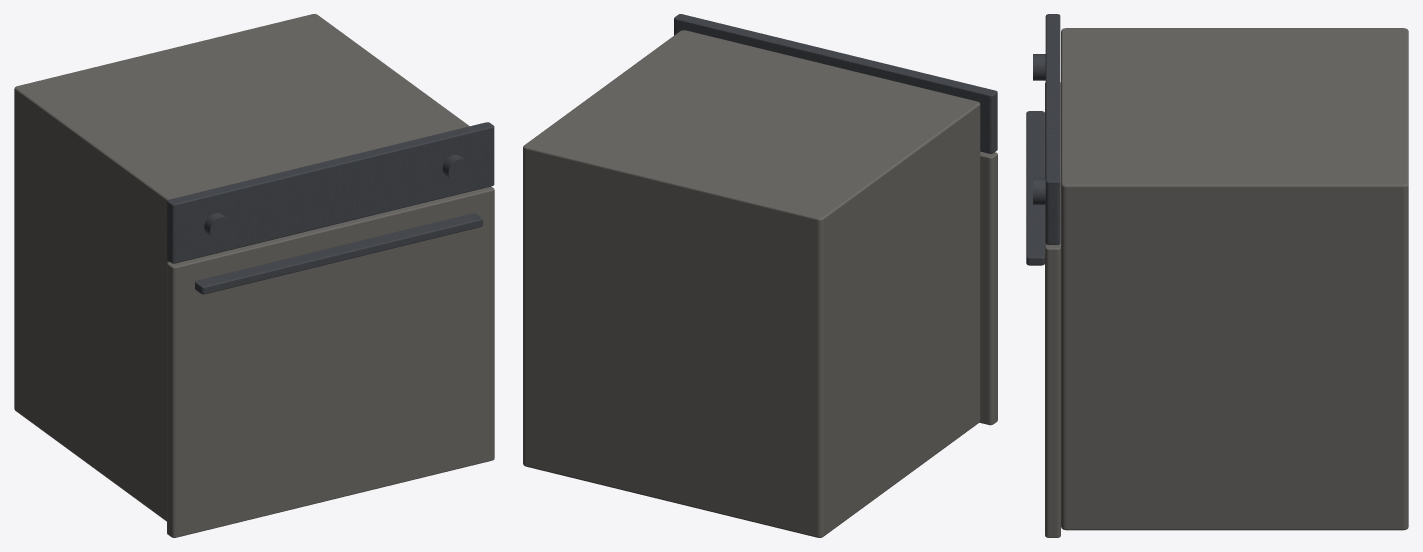
File: kowhai-hero-kit-01.glb
3 views of the same model, side by side, from view 1: azimuth 30°, elevation 25°; view 2: azimuth 150°, elevation 25°; view 3: azimuth 270°, elevation 25° (orthographic). The views are drawn at different scales.
Visible parts, largest first — view 1: Oven_RecessedChassis, Oven_SmokedGlassDoor, Oven_BrushedControlFascia, Oven_BarHandle, Oven_RotaryDial_1, Oven_RotaryDial_2; view 2: Oven_RecessedChassis, Oven_BrushedControlFascia, Oven_SmokedGlassDoor; view 3: Oven_RecessedChassis, Oven_SmokedGlassDoor, Oven_BrushedControlFascia, Oven_BarHandle.
Part boxes in pixels (x1,y1,x2,y2): Oven_RecessedChassis: (14,14,469,521); Oven_SmokedGlassDoor: (167,186,494,537); Oven_BrushedControlFascia: (167,122,494,263); Oven_BarHandle: (195,213,482,294); Oven_RotaryDial_1: (204,213,231,240); Oven_RotaryDial_2: (442,154,469,182); Oven_RecessedChassis: (523,30,980,537); Oven_BrushedControlFascia: (674,14,997,153); Oven_SmokedGlassDoor: (979,151,997,425); Oven_RecessedChassis: (1061,28,1408,530); Oven_SmokedGlassDoor: (1045,82,1060,537); Oven_BrushedControlFascia: (1045,14,1060,244); Oven_BarHandle: (1026,111,1044,265).
Bounding box in the file's own units: 0.596 × 0.5885 × 0.572.
2 materials, 1 textured.
